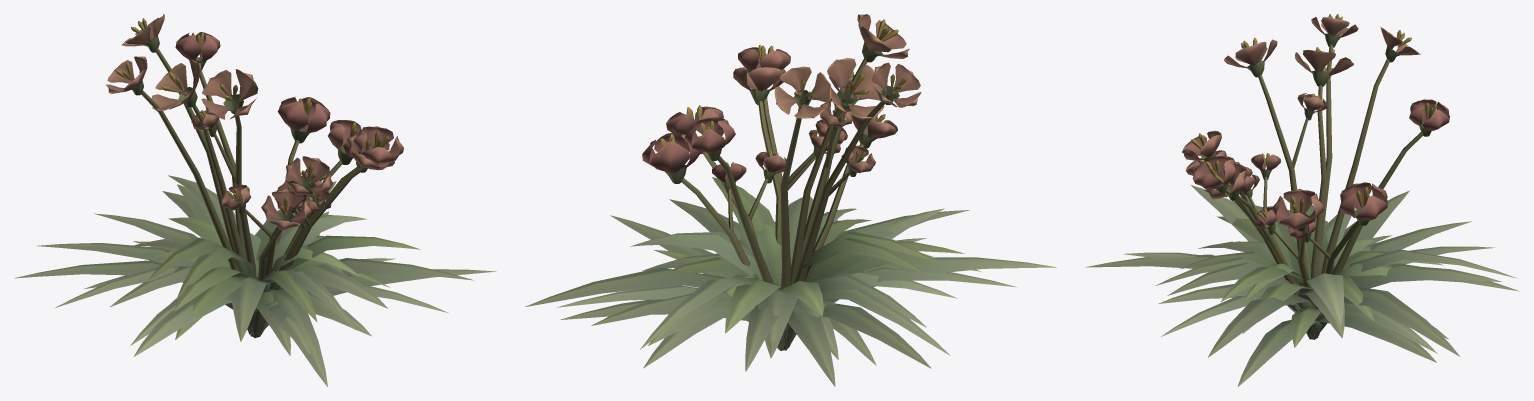
The model's file is pennon-windcups.glb.
3 renders of one model, left to right at view 1: azimuth 30°, elevation 25°; view 2: azimuth 150°, elevation 25°; view 3: azimuth 270°, elevation 25°, orthographic. The views are drawn at different scales.
Parts seen in each view (by area): view 1: FoldedPennon3, FoldedPennon1, FoldedPennon2; view 2: FoldedPennon3, FoldedPennon2, FoldedPennon1; view 3: FoldedPennon3, FoldedPennon1, FoldedPennon2.
Part boxes in pixels (x1,y1,x2,y2): FoldedPennon3: [37, 32, 448, 386]; FoldedPennon1: [54, 56, 496, 355]; FoldedPennon2: [14, 14, 473, 356]; FoldedPennon3: [525, 14, 969, 386]; FoldedPennon2: [591, 66, 1056, 368]; FoldedPennon1: [557, 44, 1016, 371]; FoldedPennon3: [1085, 37, 1519, 362]; FoldedPennon1: [1158, 14, 1501, 386]; FoldedPennon2: [1123, 27, 1517, 357].
Bounding box in the file's own units: 0.5913 × 0.4406 × 0.6139.
